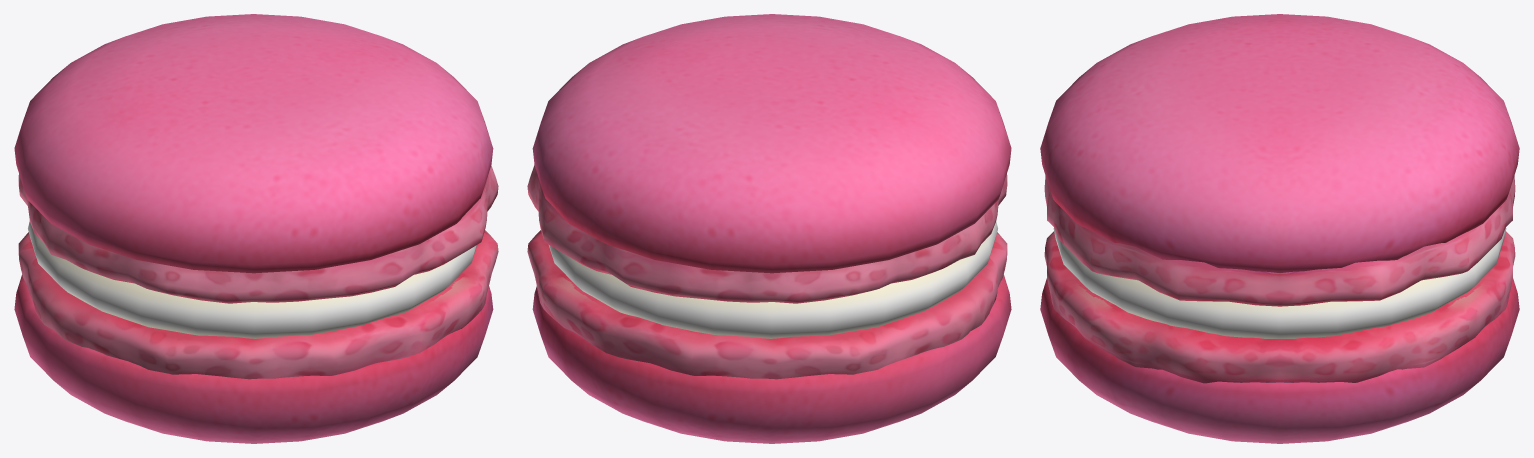
The model's file is MaKaLong.FBX.
The picture shows the model from 3 angles, left to right: view 1: azimuth 30°, elevation 25°; view 2: azimuth 150°, elevation 25°; view 3: azimuth 270°, elevation 25°; orthographic projection.
Parts seen in each view (by area): view 1: MaKaLong; view 2: MaKaLong; view 3: MaKaLong.
Boxes of the visible parts, x1,y1,x2,y2 form: MaKaLong: (14, 14, 498, 443); MaKaLong: (527, 14, 1011, 443); MaKaLong: (1040, 14, 1519, 443).
Size of the model in its own units: 59.48 by 42.82 by 59.55.
Materials: 1 (1 with a texture image).
